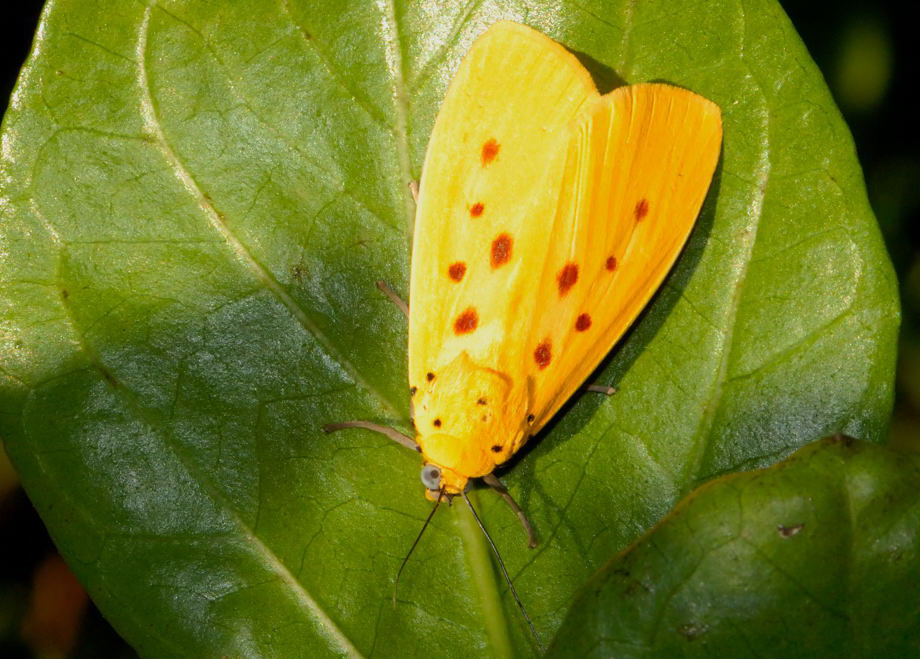Agape chloropyga: (326, 13, 734, 641)
moth: (324, 11, 732, 639)
